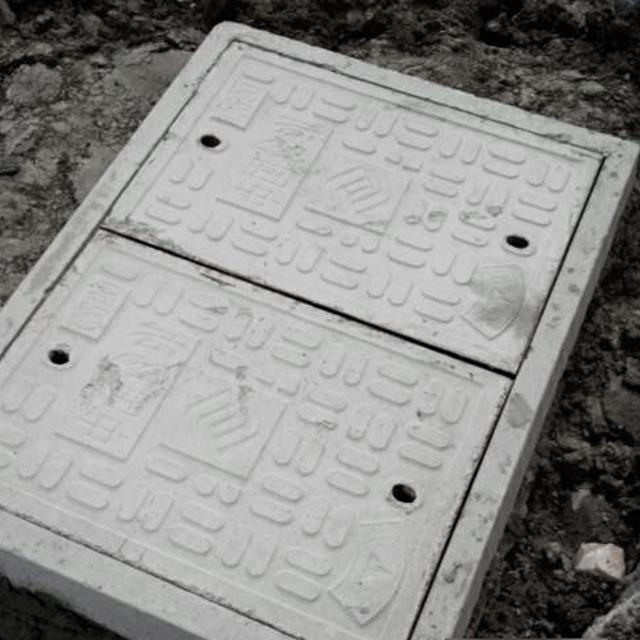good: (0, 21, 627, 640)
